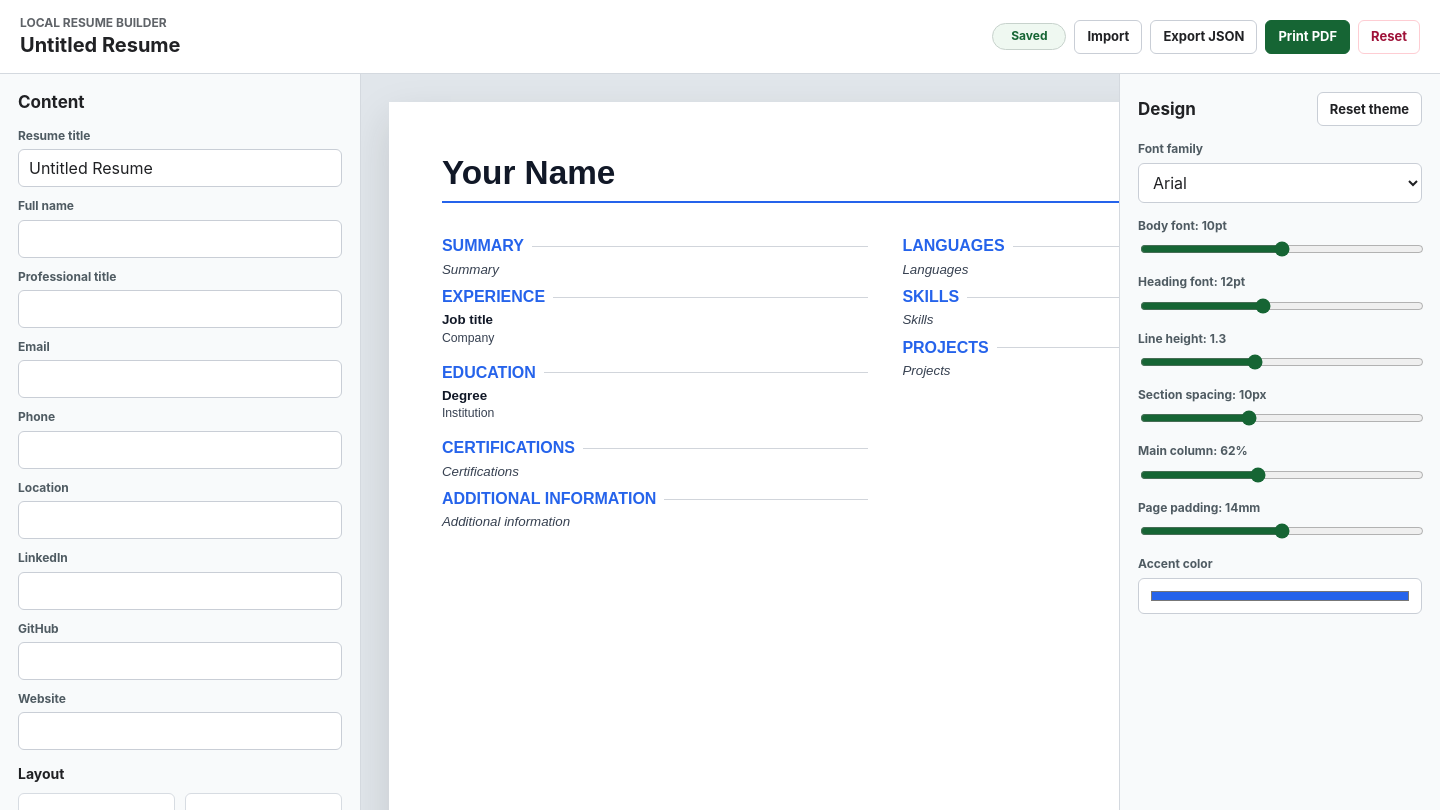
Scenario: useResumePersistence › autosaves edits after a debounce
The width and height of the screenshot is (1440, 810).
Type "Arvind Kumar" into the field labelled "Full name". click: (180, 239)
box: [18, 220, 342, 258]
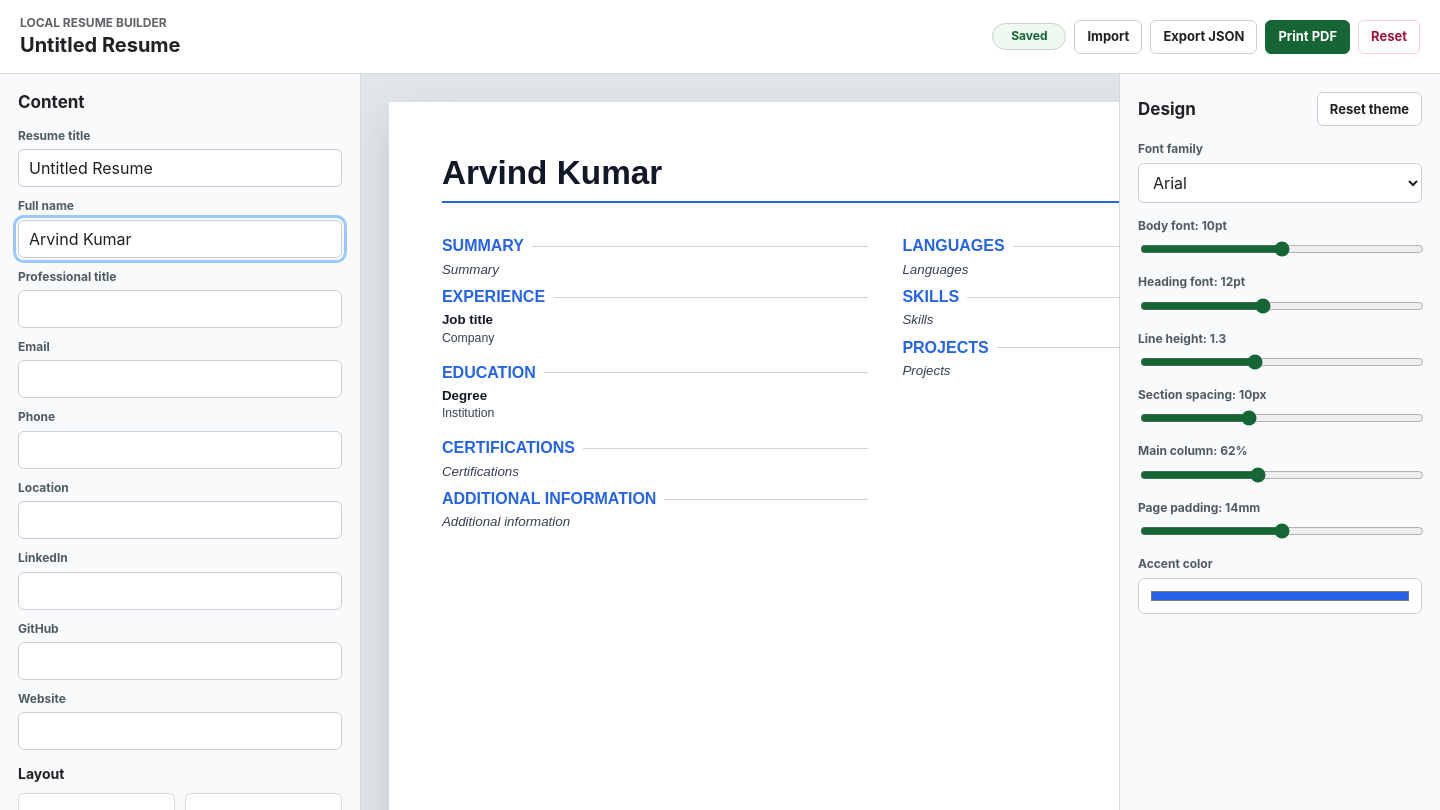
Expected: the text "saved" is shown, [992, 24, 1066, 50]
Now the heading "Arvind Kumar" is shown, box [442, 154, 662, 191]
